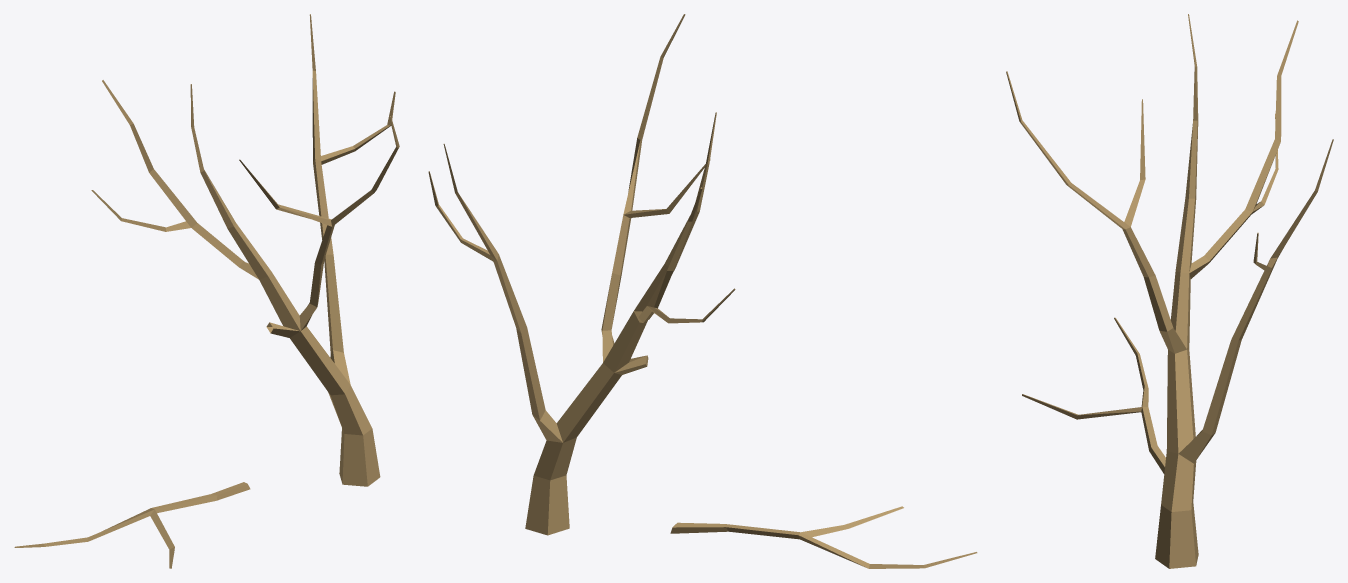
File: Acacia_Tree_NoLeaves_crk_l_03_LOD.fbx
3 renders of one model, left to right at view 1: azimuth 30°, elevation 25°; view 2: azimuth 150°, elevation 25°; view 3: azimuth 270°, elevation 25°, orthographic. The views are drawn at different scales.
Visible parts, largest first — view 1: Acacia_Tree_NoLeaves_crk_l_03_LOD0; view 2: Acacia_Tree_NoLeaves_crk_l_03_LOD0; view 3: Acacia_Tree_NoLeaves_crk_l_03_LOD0.
Part boxes in pixels (x1,y1,x2,y2): Acacia_Tree_NoLeaves_crk_l_03_LOD0: [14, 14, 399, 568]; Acacia_Tree_NoLeaves_crk_l_03_LOD0: [428, 14, 977, 568]; Acacia_Tree_NoLeaves_crk_l_03_LOD0: [1006, 14, 1333, 568].
Size of what is drawn, in the model's own units: 1208 by 1115 by 716.
